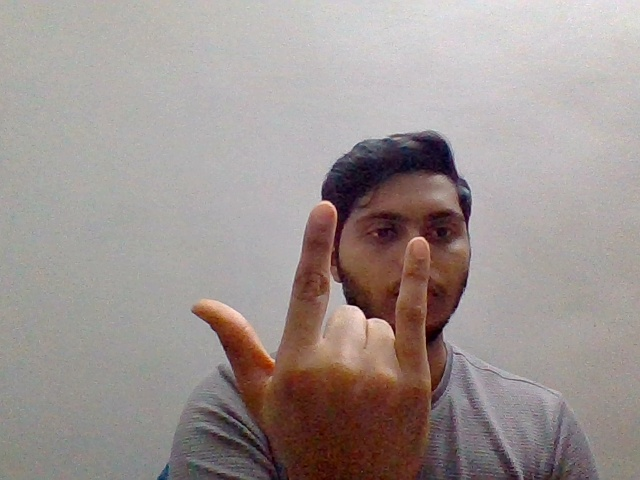I Love You: (185, 194, 449, 480)
